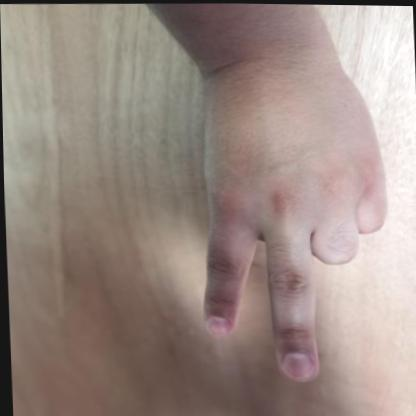N: (184, 88, 404, 387)
